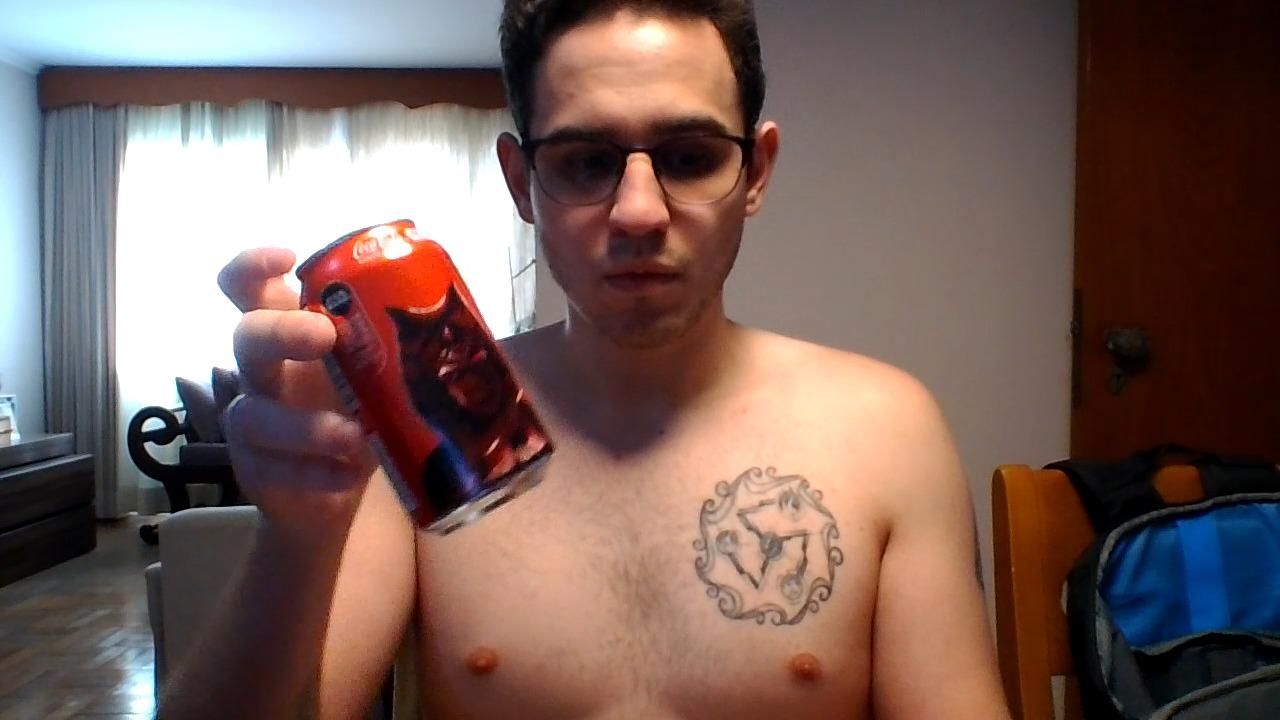coke: (294, 220, 555, 535)
